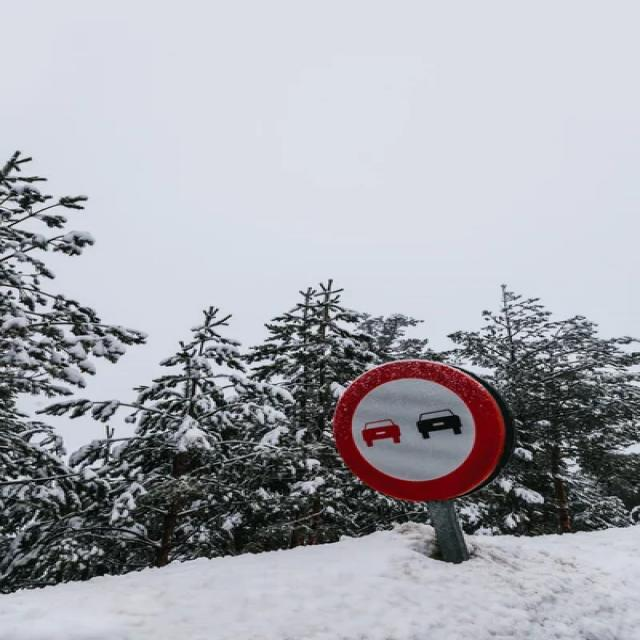no overtaking: (328, 356, 524, 509)
